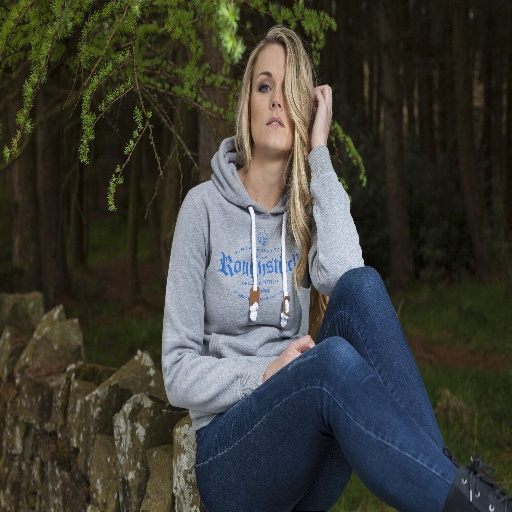hand: (255, 324, 320, 384), (310, 82, 332, 150)
